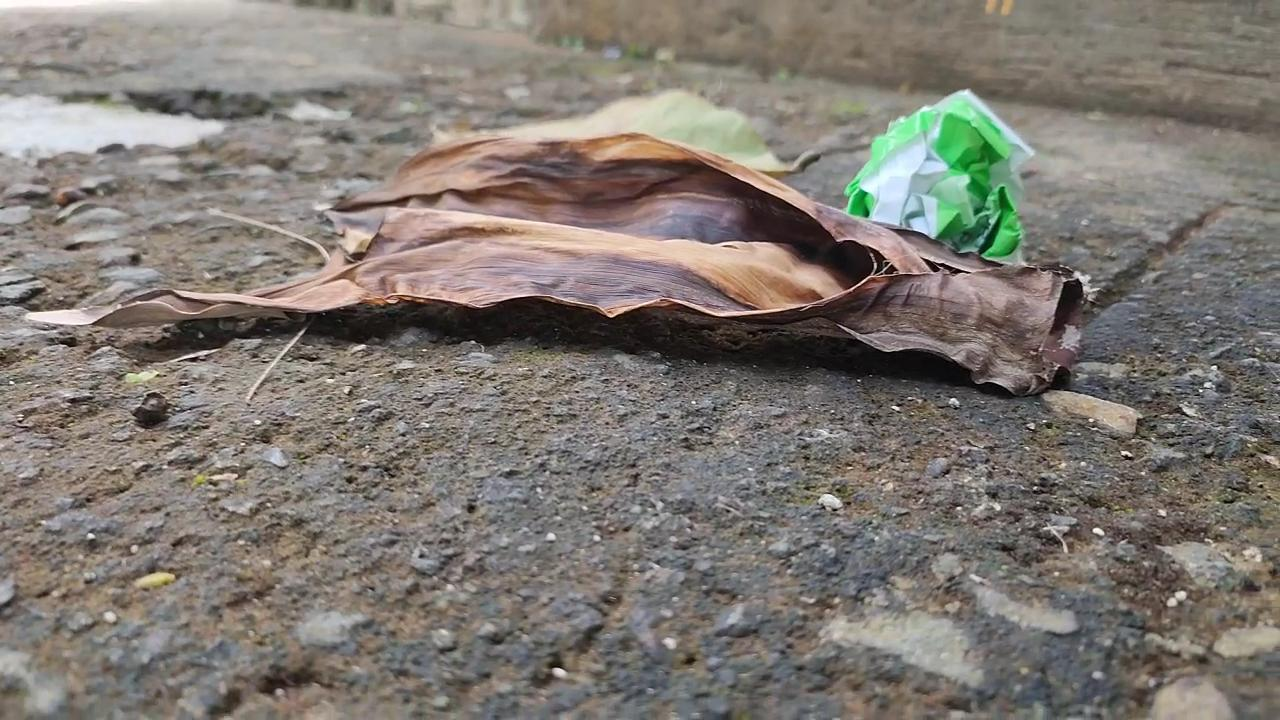Paper: (838, 87, 1042, 272)
